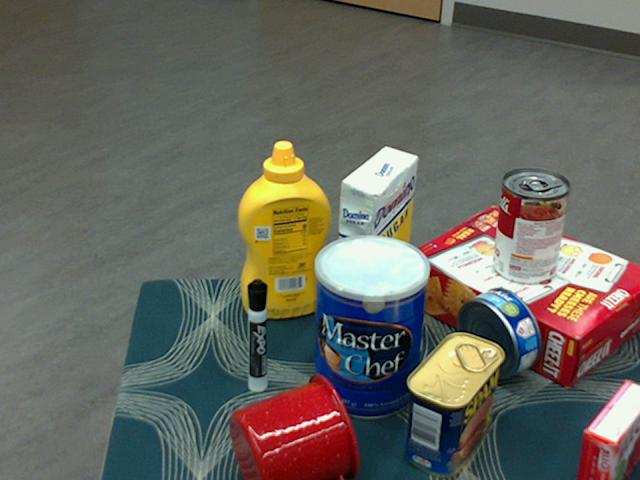cracker_box: (403, 208, 639, 384)
gelatin_box: (574, 380, 639, 479)
large_marker: (245, 278, 266, 393)
master_chef_can: (314, 235, 431, 421)
mug: (229, 373, 360, 479)
mustard_bottle: (237, 141, 330, 319)
potted_meat_can: (405, 333, 505, 477)
sugar_box: (333, 147, 418, 336)
tomato_soup_can: (493, 170, 570, 286)
tuna_fish_can: (458, 286, 542, 378)
